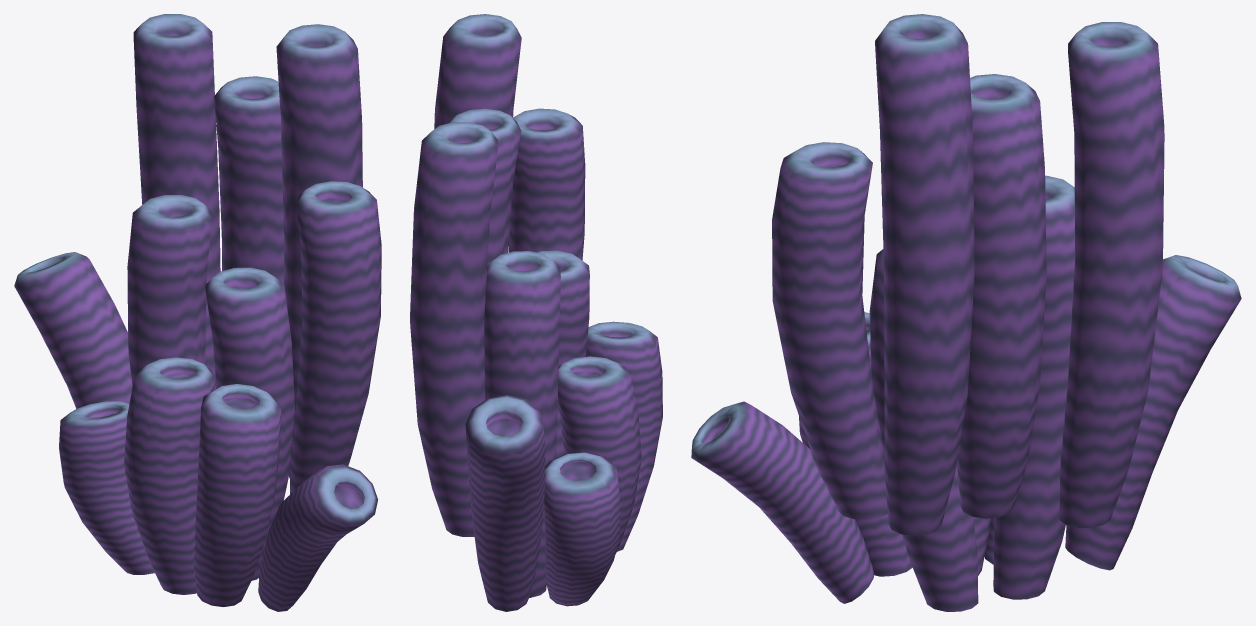
File: TubeCoral.fbx
3 views of the same model, side by side, from view 1: azimuth 30°, elevation 25°; view 2: azimuth 150°, elevation 25°; view 3: azimuth 270°, elevation 25° (orthographic). The views are drawn at different scales.
Visible parts, largest first — view 1: Cylinder.010; view 2: Cylinder.010; view 3: Cylinder.010.
Part boxes in pixels (bbox=[...]): Cylinder.010: bbox=[14, 14, 381, 611]; Cylinder.010: bbox=[410, 14, 662, 611]; Cylinder.010: bbox=[691, 14, 1241, 611].
Bounding box in the file's own units: 270 × 572 × 469.
